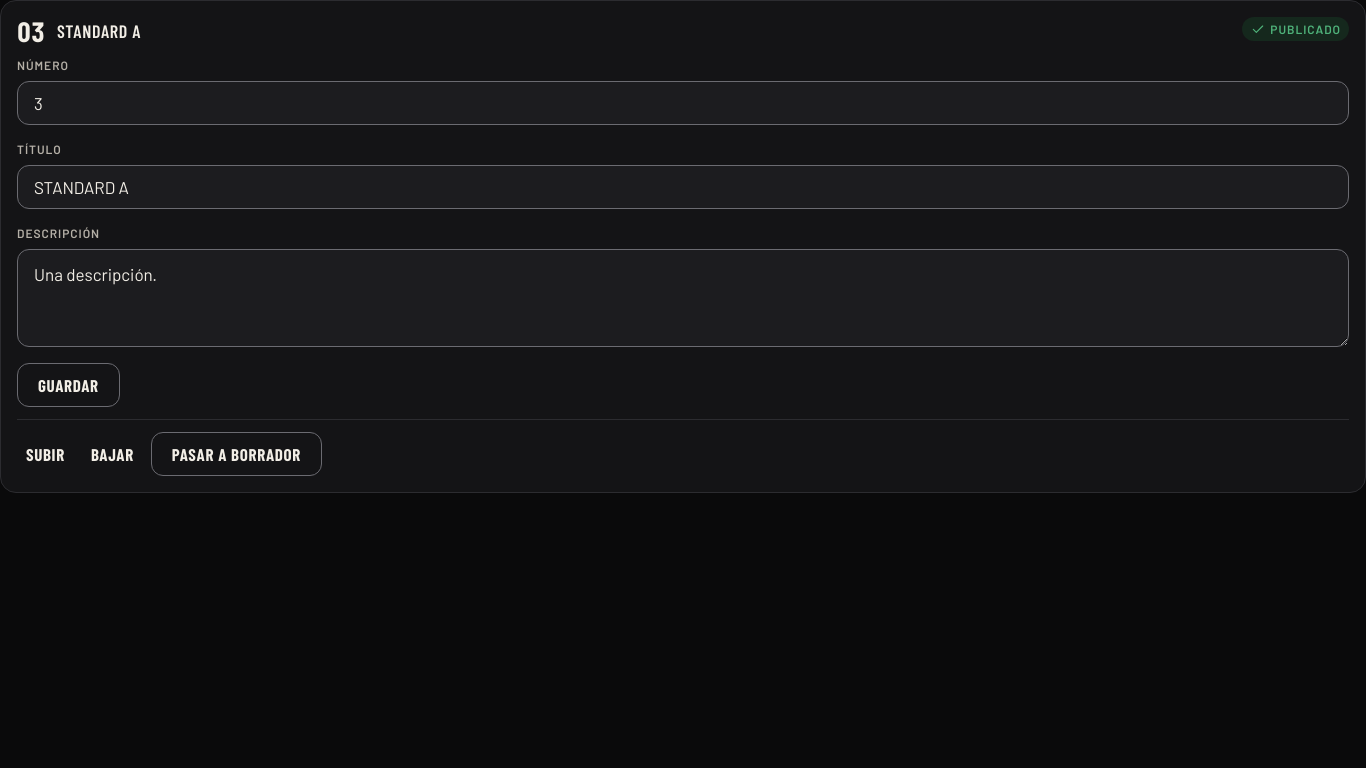
Test case: StandardEditor · un Standard que existe › guarda lo escrito con el id y el número como número
The width and height of the screenshot is (1366, 768).
Replace the text in the number field labelled "Número" with "7" at (683,103), box x1=17 y1=81 x2=1349 y2=125
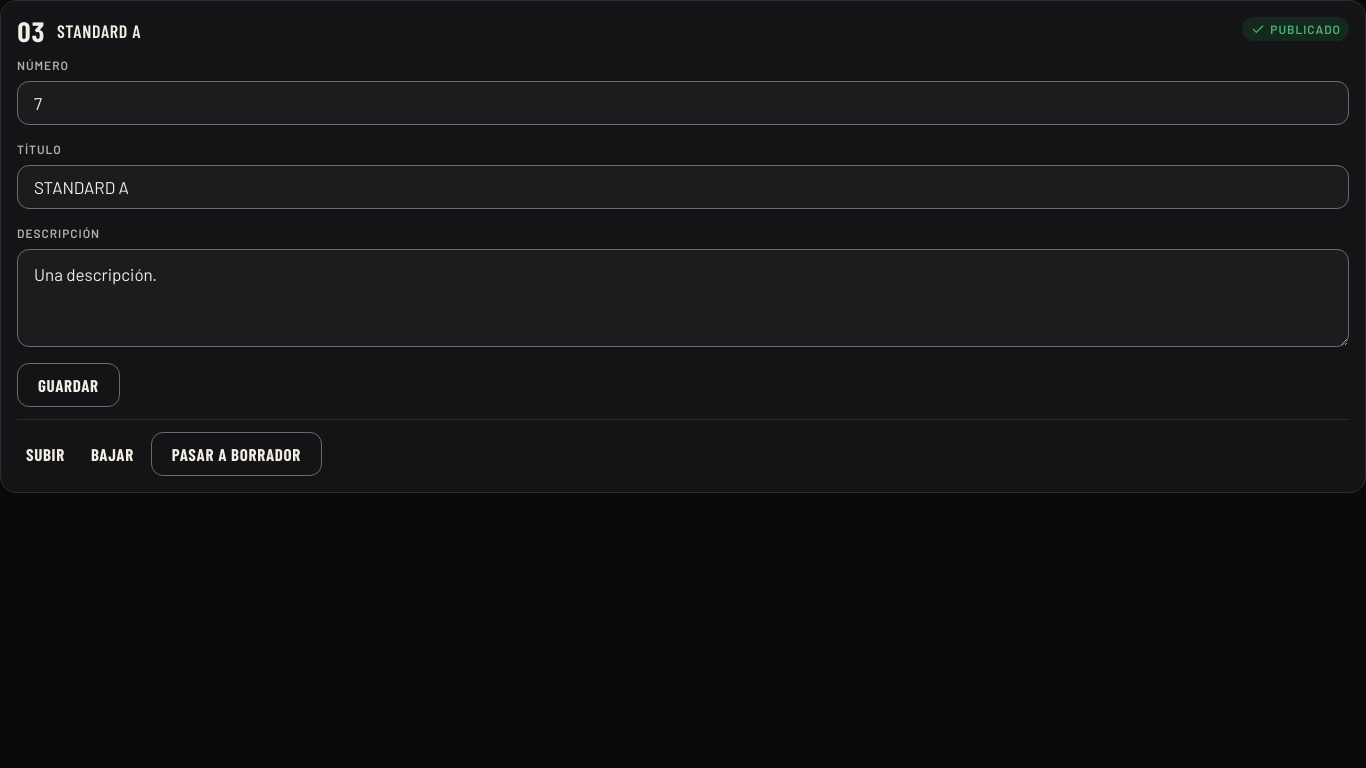
Replace the text in the field labelled "Título" with "STANDARD B" at (683,187), box x1=17 y1=165 x2=1349 y2=209
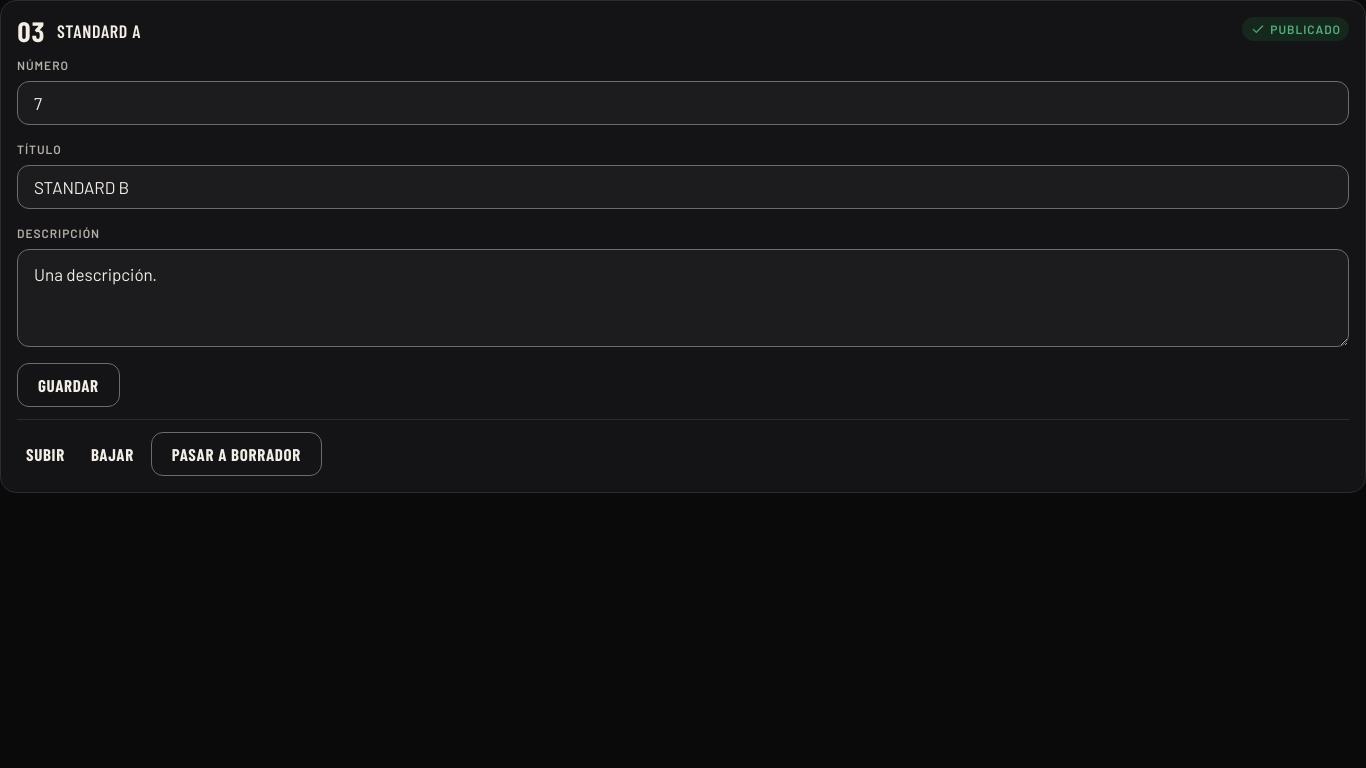
Replace the text in the text box labelled "Descripción" with "Otra descripción." at (683,298), box x1=17 y1=249 x2=1349 y2=347
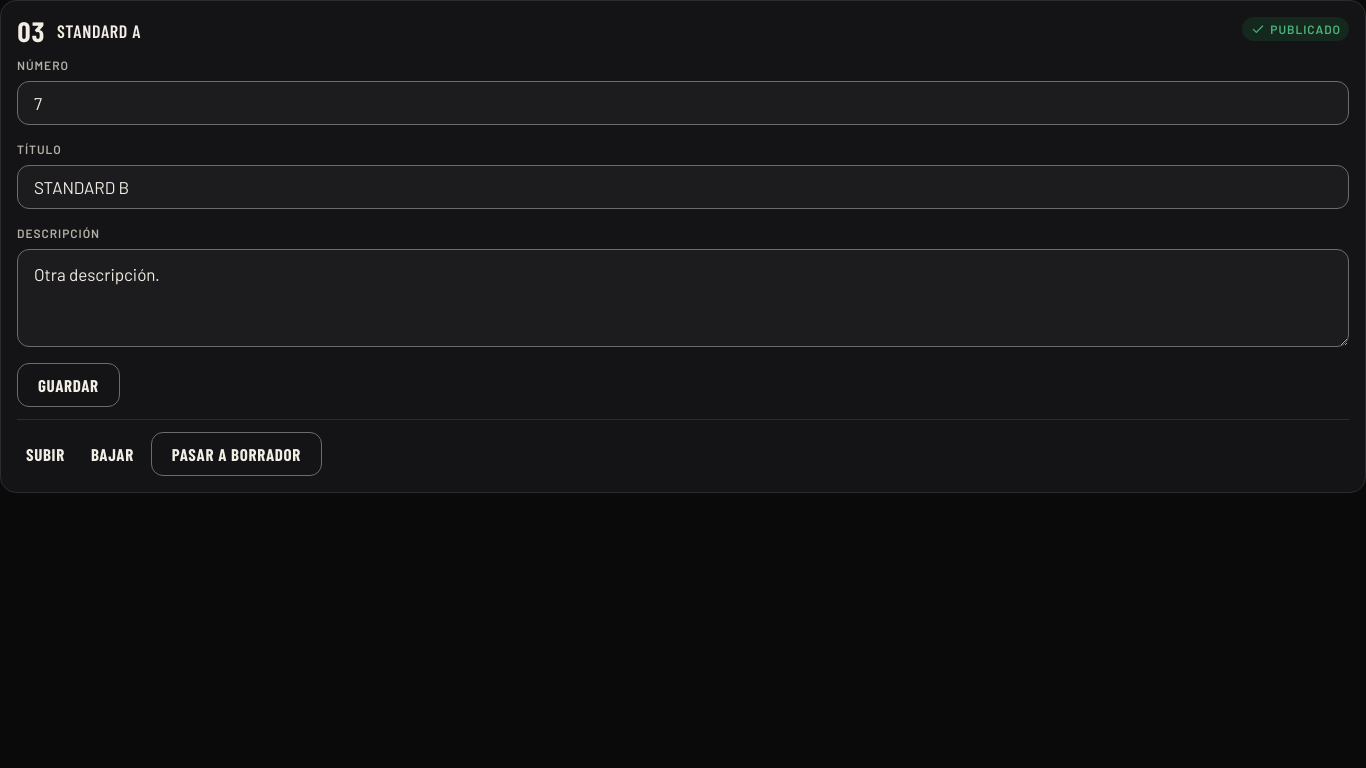
Click the button "Guardar" at (68,385), box x1=17 y1=363 x2=120 y2=407
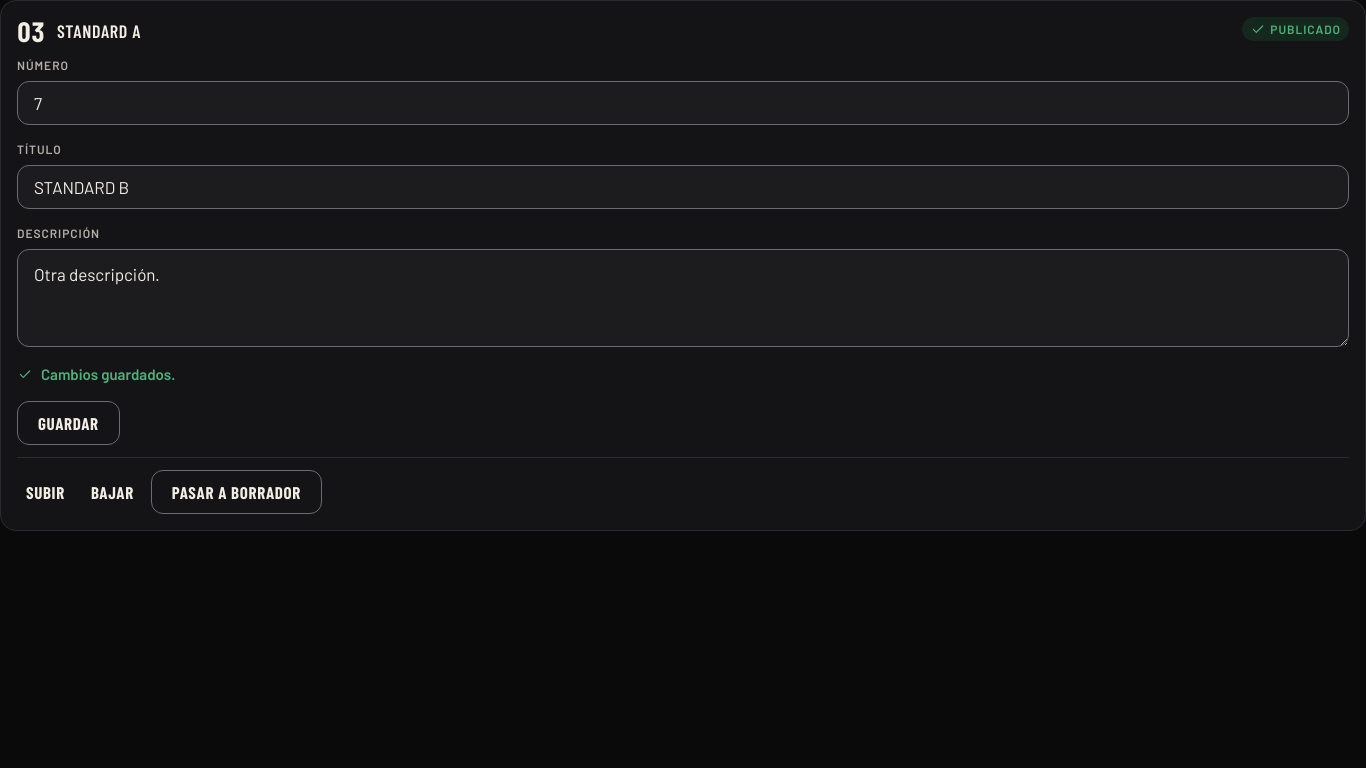
Expected: the text "Cambios guardados." is shown, x1=17 y1=365 x2=175 y2=383
